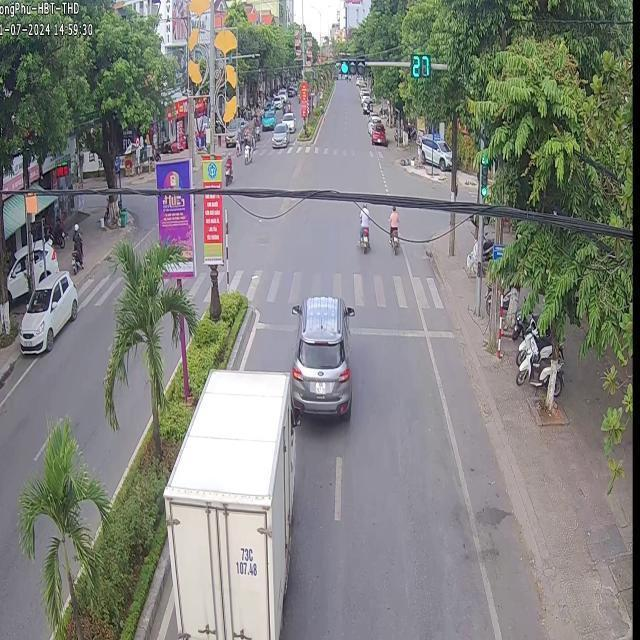car: (162, 369, 293, 638), (289, 294, 352, 418), (18, 269, 77, 352)
green_light: (338, 56, 365, 78), (409, 51, 431, 77), (480, 149, 488, 200)
motobike: (357, 202, 368, 251), (387, 205, 397, 254)
stop_line: (348, 325, 423, 336), (256, 320, 294, 329), (426, 327, 450, 336)
